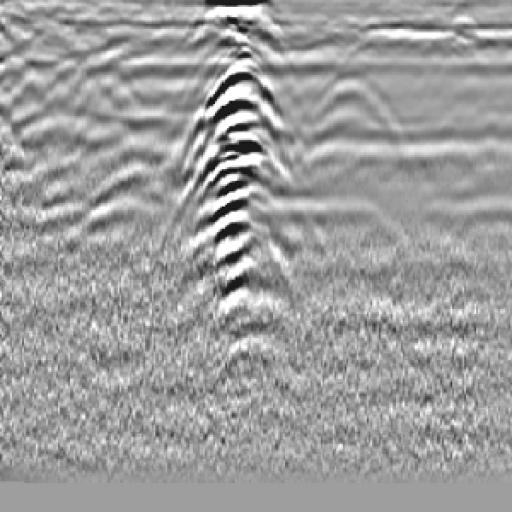metalic: (129, 37, 319, 333)
nonmetalic: (300, 64, 427, 180)
